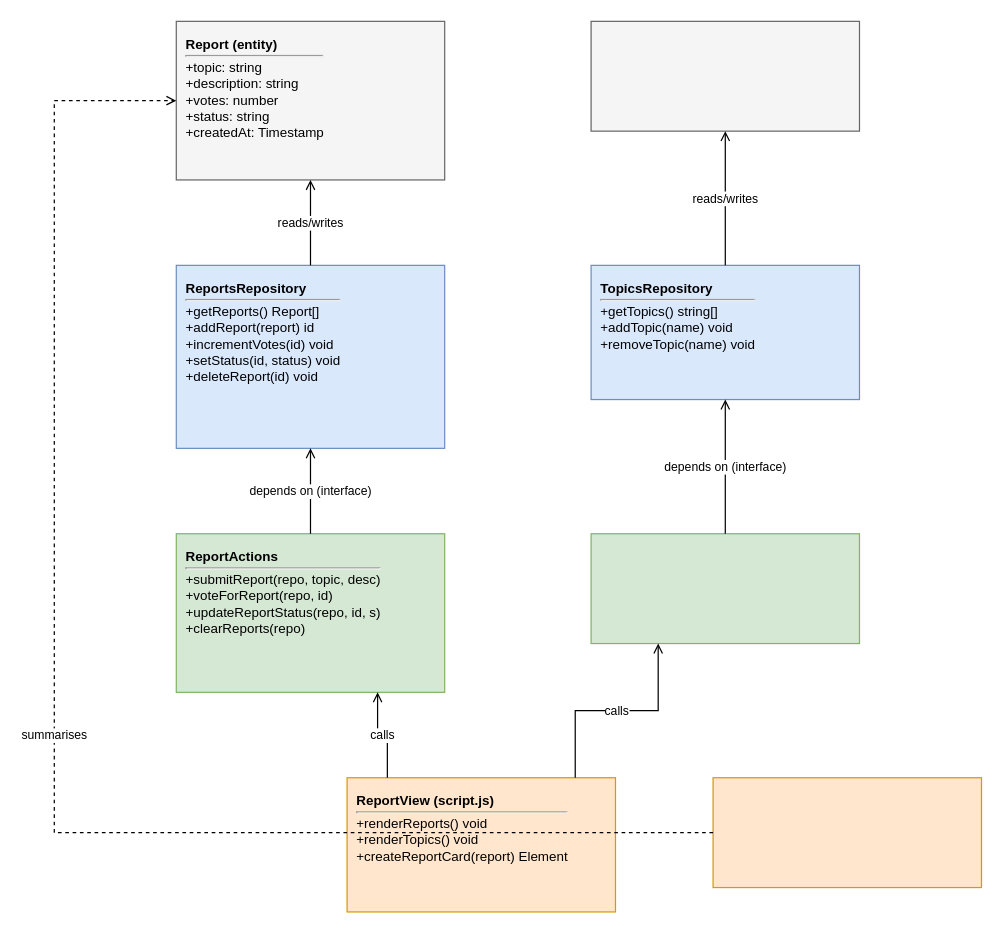
This 1003x933 diagram has some shape labels left out. The shapes that lost their labels are listed below. From the top down, each one's centre as x and y in pixels, then its label:
the point at 724,75: Topic (entity) +name: string +createdAt: Timestamp
the point at 724,588: TopicActions +addTopicAction(repo, name) +removeTopicAction(repo, name)
the point at 846,832: DashboardService +summarizeTopics(reports) +renderDashboard(reports)
